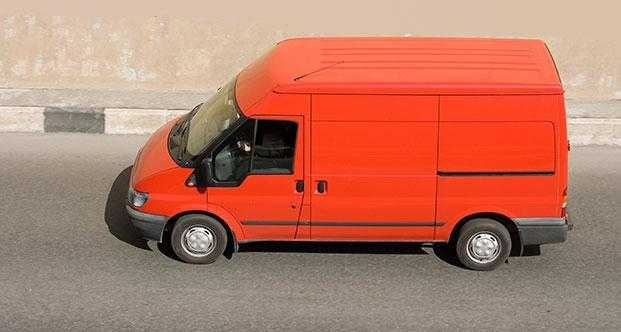van: (125, 34, 572, 273)
